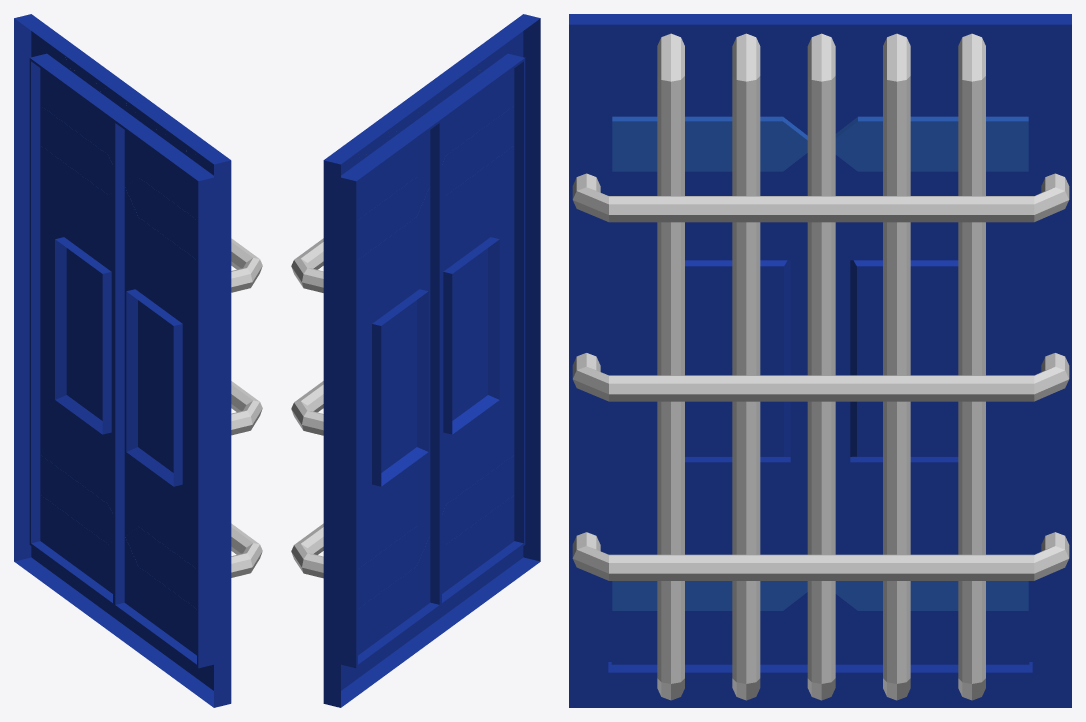
The model's file is janela.fbx.
3 renders of one model, left to right at view 1: azimuth 30°, elevation 25°; view 2: azimuth 150°, elevation 25°; view 3: azimuth 270°, elevation 25°, orthographic. The views are drawn at different scales.
Parts seen in each view (by area): view 1: janela, gradeH; view 2: janela, gradeH; view 3: janela, gradeV1, gradeH, gradeV2, juntas.
Part boxes in pixels (x1,y1,x2,y2): janela: [14, 14, 231, 707]; gradeH: [231, 238, 262, 577]; janela: [323, 14, 540, 707]; gradeH: [291, 238, 323, 578]; janela: [569, 14, 1071, 707]; gradeV1: [657, 33, 985, 700]; gradeH: [572, 173, 1069, 580]; gradeV2: [732, 33, 910, 700]; juntas: [612, 116, 1028, 610].
Bounding box in the file's own units: 18.67 × 150 × 100.
